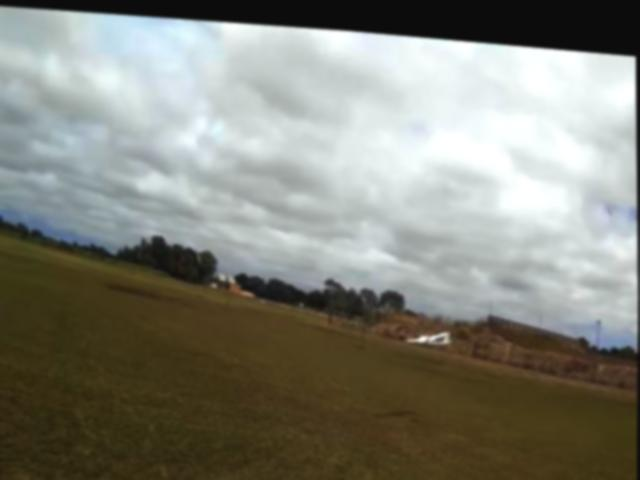uav: (401, 308, 458, 350)
